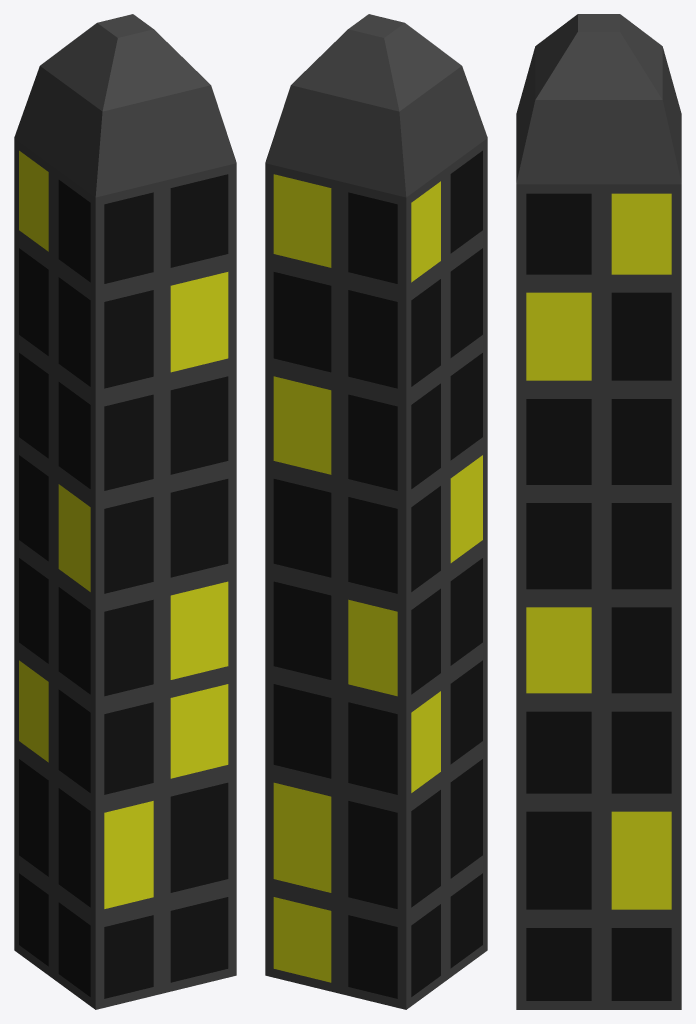
File: Tower_3.FBX
3 renders of one model, left to right at view 1: azimuth 30°, elevation 25°; view 2: azimuth 150°, elevation 25°; view 3: azimuth 270°, elevation 25°, orthographic.
Visible parts, largest first — view 1: Box003; view 2: Box003; view 3: Box003.
Boxes of the visible parts, x1,y1,x2,y2 form: Box003: (14, 14, 236, 1009); Box003: (265, 14, 487, 1009); Box003: (516, 14, 681, 1009).
Bounding box in the file's own units: 20 × 127 × 20.
